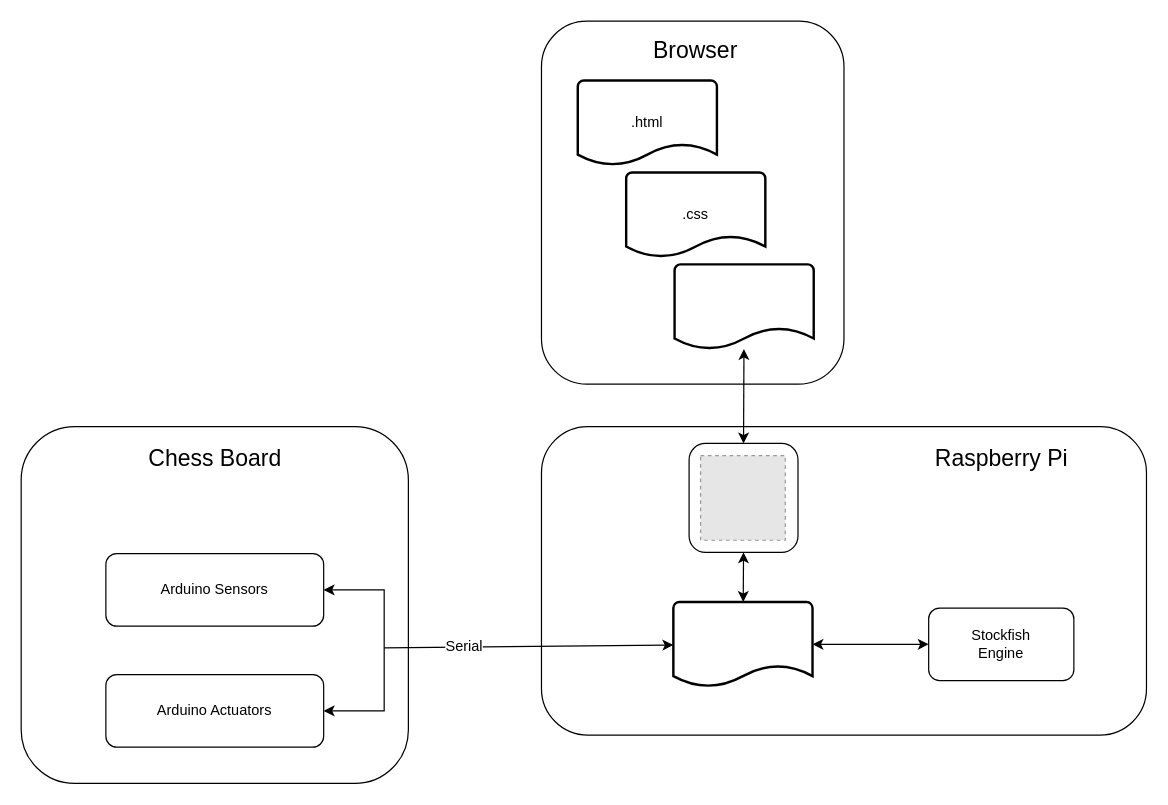
Some shapes in this 1168 by 805 pixel diagram are drawn without their labels. Grey dashed boxes stand in for pictures. The shapes that lost their labels are listed below. From the top down, each one's box as (x1, y1, x2, y2) in pixels, then its label:
(673, 263, 814, 350): .js
(672, 600, 813, 687): .py
